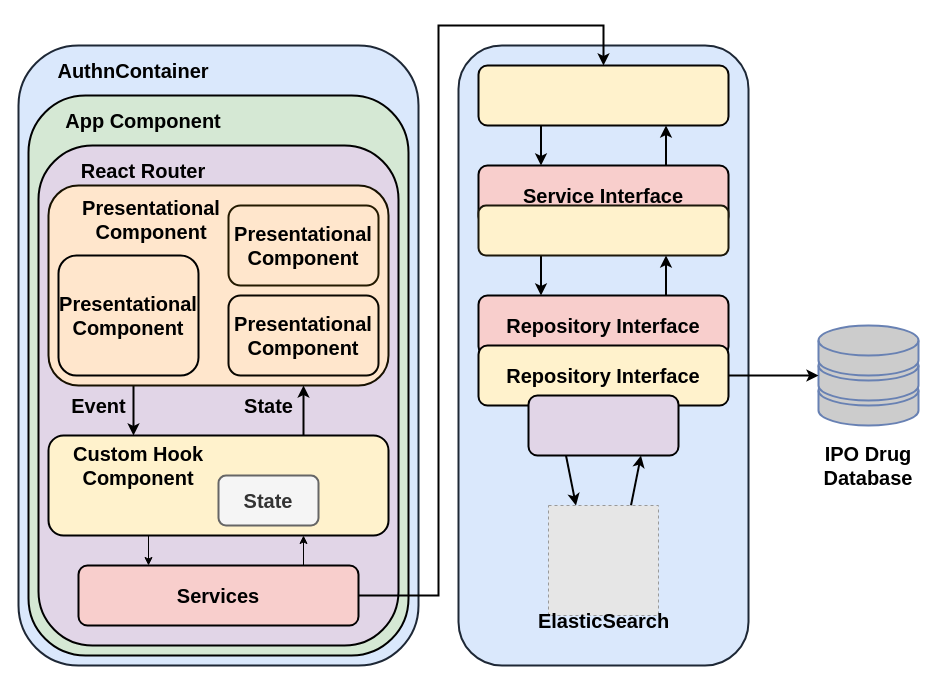
This 936x683 diagram has some shape labels left out. Grey dashed boxes stand in for pictures. Each missing label, with the box of its shape:
ElasticSearch Client: (527, 394, 679, 456)
Routes: (477, 64, 729, 126)
Service Implementation: (477, 204, 729, 256)
